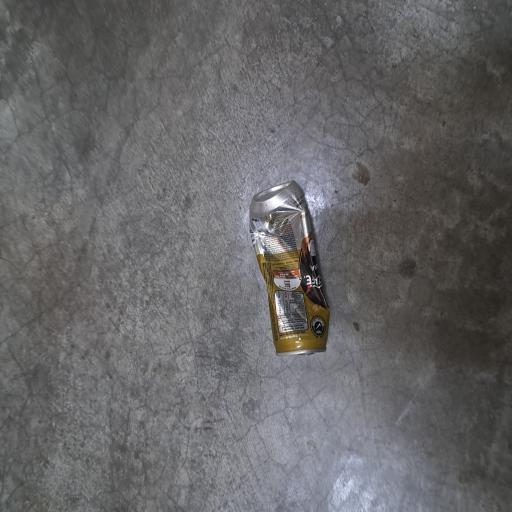can: (116, 331, 250, 440)
